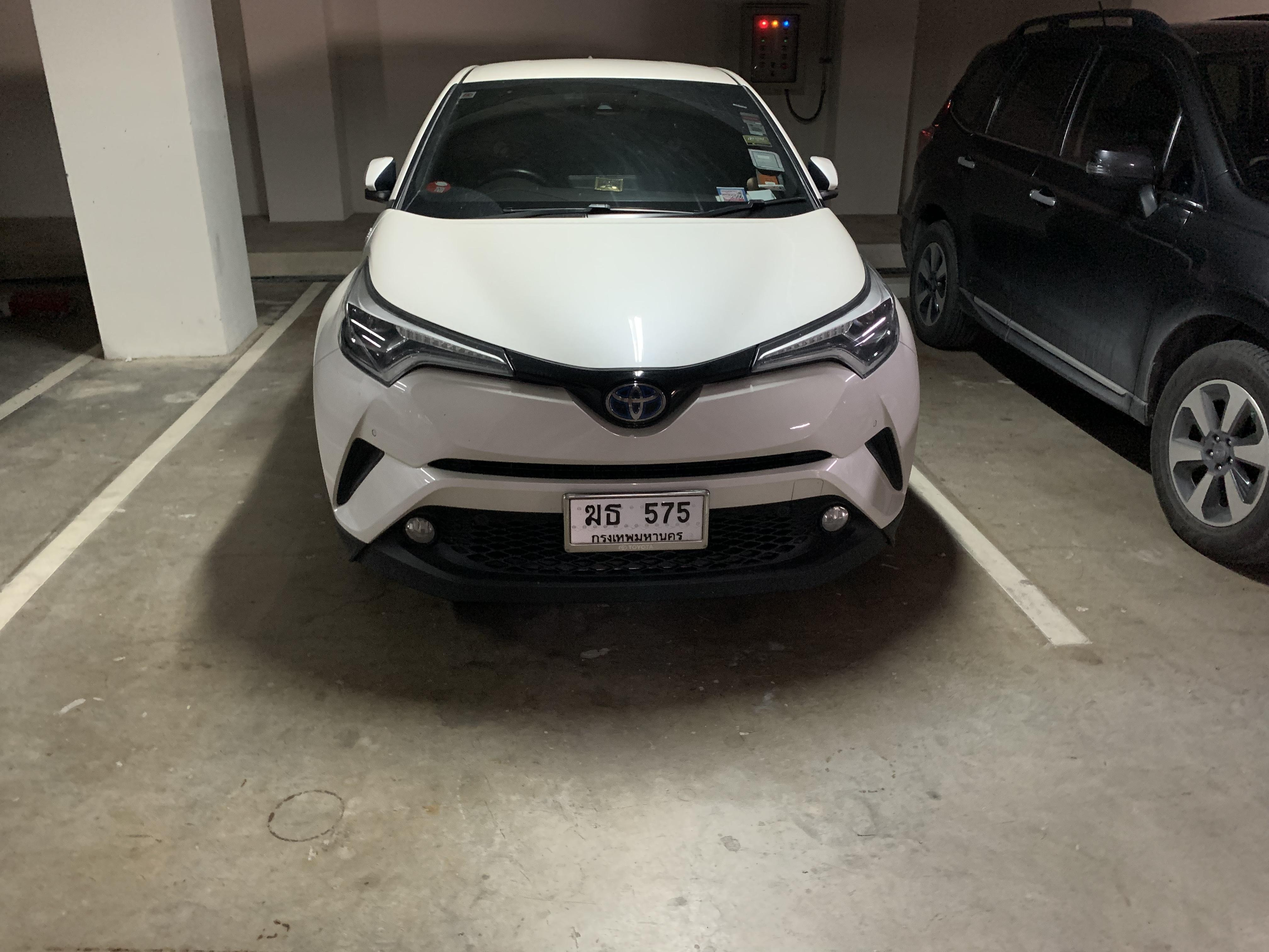license-plate: (557, 486, 715, 556)
